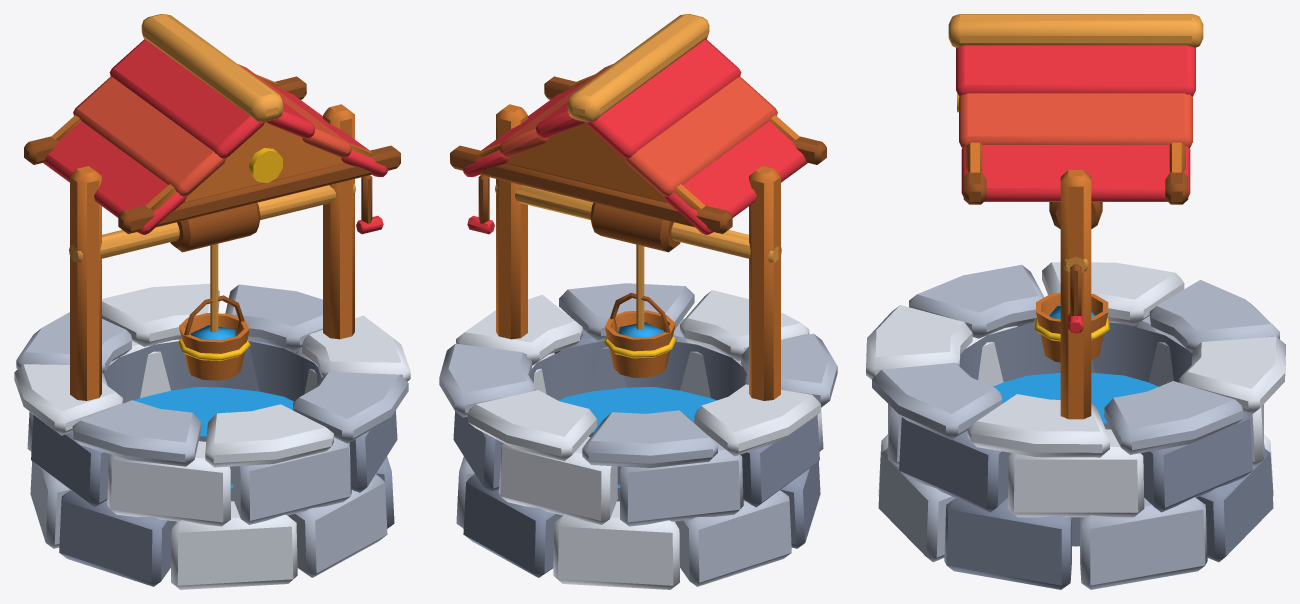
Rendered from well.glb.
3 views of the same model, side by side, from view 1: azimuth 30°, elevation 25°; view 2: azimuth 150°, elevation 25°; view 3: azimuth 270°, elevation 25° (orthographic). The views are drawn at different scales.
Visible parts, largest first — view 1: well; view 2: well; view 3: well.
Part boxes in pixels (x1,y1,x2,y2): well: [14, 14, 410, 589]; well: [439, 14, 837, 589]; well: [866, 14, 1285, 589].
Bounding box in the file's own units: 2.21 × 2.86 × 2.21.
